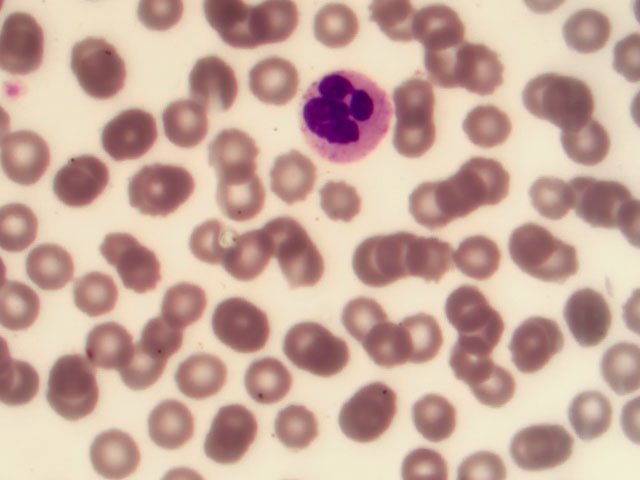Platelets: (3, 78, 29, 105)
RBC: (601, 338, 640, 407), (564, 391, 615, 440), (568, 293, 619, 342), (539, 233, 590, 282), (503, 220, 554, 269), (520, 176, 571, 225), (573, 174, 624, 223), (563, 114, 614, 163), (555, 76, 606, 125), (526, 68, 577, 117), (561, 8, 612, 57), (462, 37, 513, 86), (424, 36, 475, 85), (411, 1, 462, 50), (376, 2, 427, 51), (383, 69, 434, 118), (389, 122, 440, 171), (457, 105, 508, 154), (465, 154, 516, 203), (438, 169, 489, 218), (403, 180, 454, 229), (452, 233, 503, 282), (442, 284, 493, 333), (458, 302, 509, 351), (445, 333, 496, 382), (464, 361, 515, 410), (496, 332, 547, 381), (518, 311, 569, 360), (514, 423, 565, 472), (408, 392, 459, 441), (336, 399, 387, 448), (352, 368, 403, 417), (361, 316, 412, 365), (392, 313, 443, 362), (336, 287, 387, 336), (337, 238, 388, 287), (366, 229, 417, 278), (403, 236, 454, 285), (311, 174, 362, 223), (269, 154, 320, 203), (264, 214, 315, 263), (283, 241, 334, 290), (226, 233, 277, 282), (181, 217, 232, 266), (206, 177, 257, 226), (212, 127, 263, 176), (248, 60, 299, 109), (309, 6, 360, 55), (223, 8, 274, 57), (188, 67, 239, 116), (160, 101, 211, 150), (128, 167, 179, 216), (162, 278, 213, 327), (137, 312, 188, 361), (117, 340, 168, 389), (180, 353, 231, 402), (219, 301, 270, 350), (237, 356, 288, 405), (273, 406, 324, 455), (210, 402, 261, 451), (144, 396, 195, 445), (93, 425, 144, 474), (48, 347, 99, 396), (51, 375, 102, 424), (85, 318, 136, 367), (70, 263, 121, 312), (97, 223, 148, 272), (124, 250, 175, 299), (62, 155, 113, 204), (103, 111, 154, 160), (76, 54, 127, 103), (23, 245, 74, 294), (3, 197, 54, 246), (3, 136, 54, 185), (2, 282, 53, 331), (2, 357, 53, 406), (252, 1, 303, 49), (401, 447, 457, 480), (454, 447, 510, 480)
WBC: (300, 67, 392, 168)
